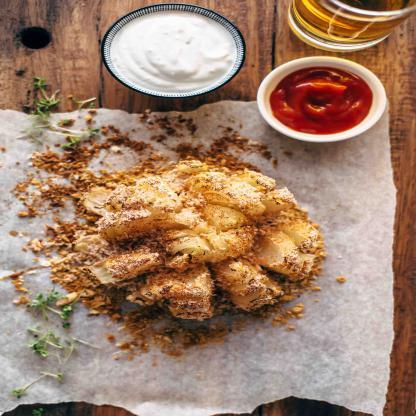onion: (154, 195, 262, 266)
